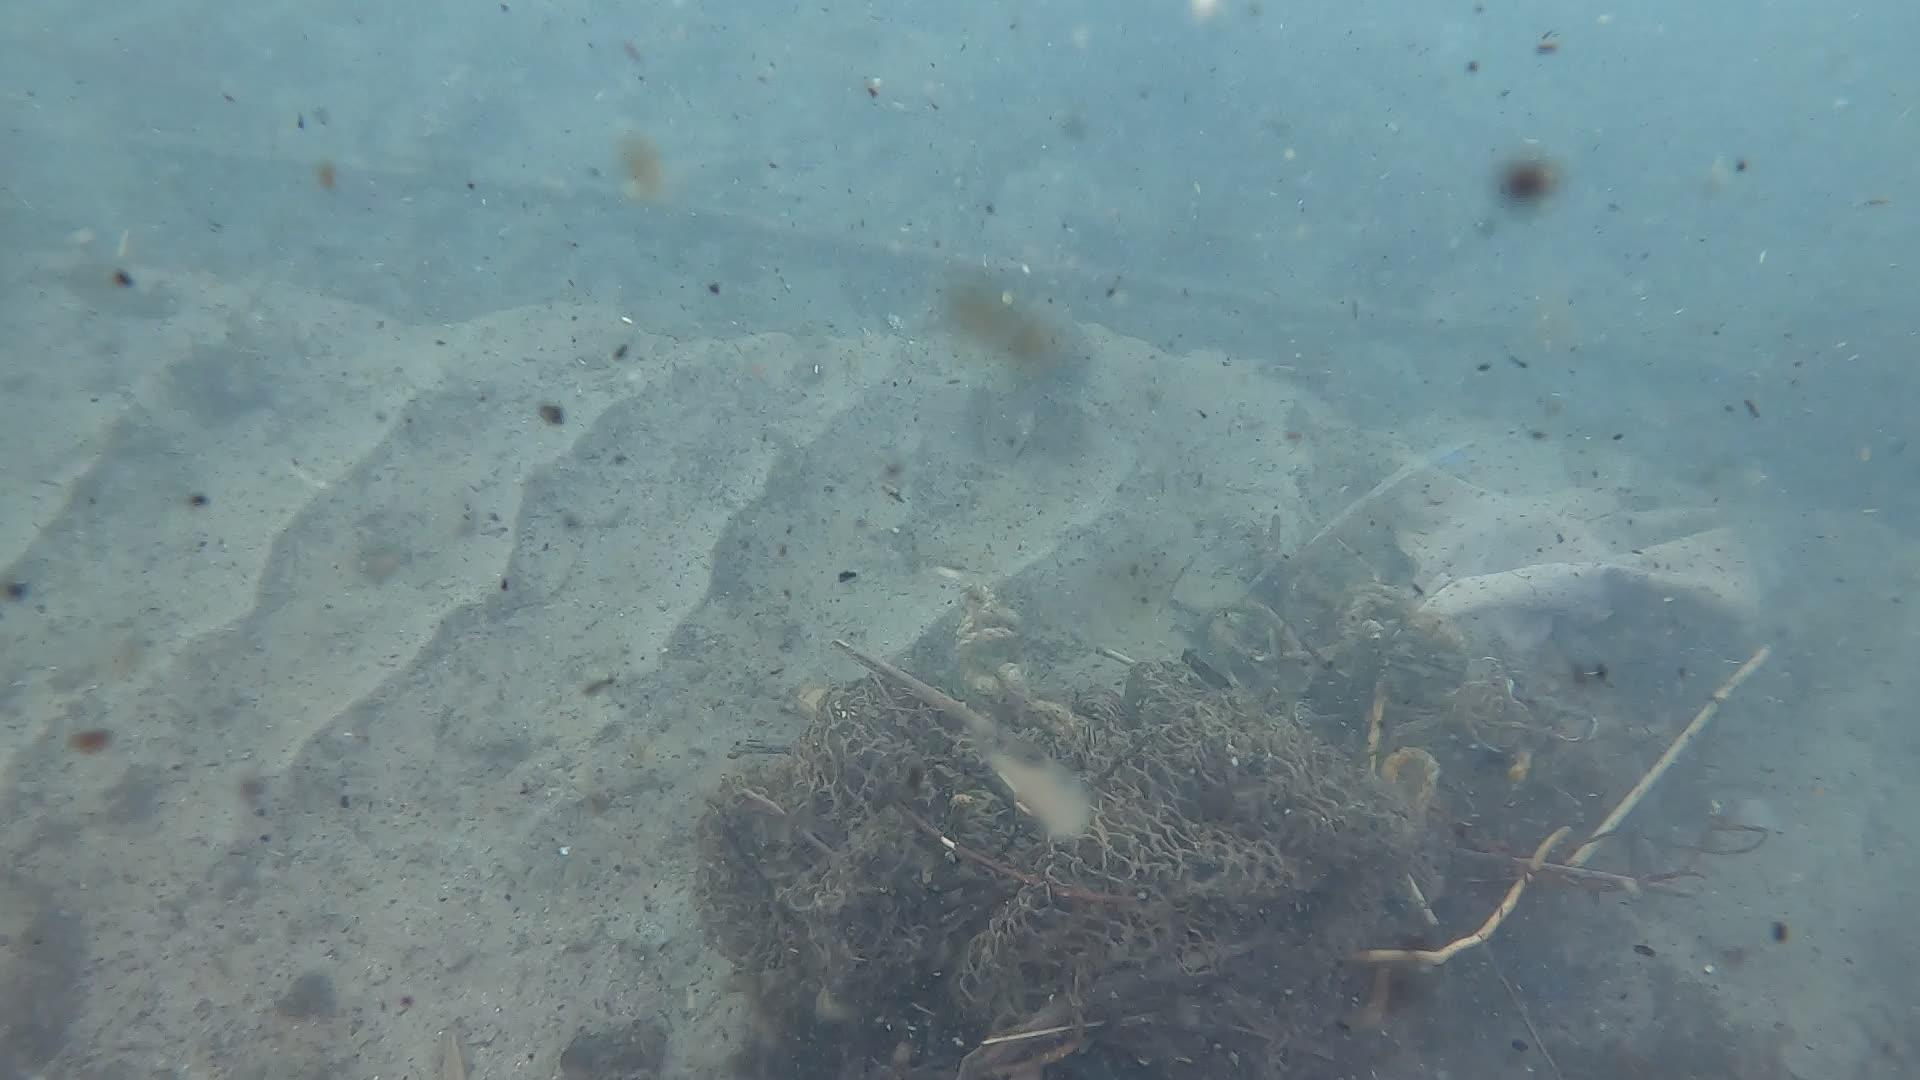fish net: (819, 699, 1385, 1031)
